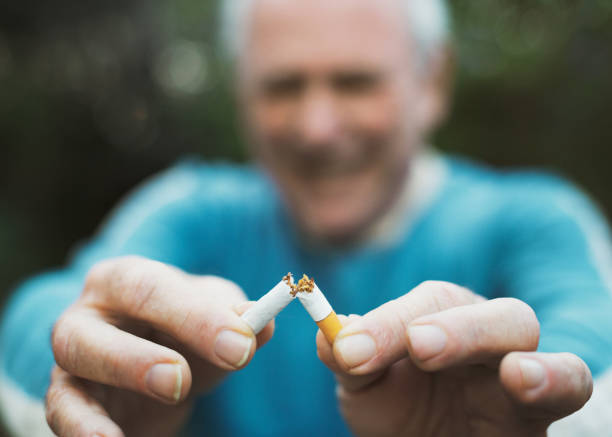cigarette: (243, 271, 297, 349), (295, 272, 344, 347)
